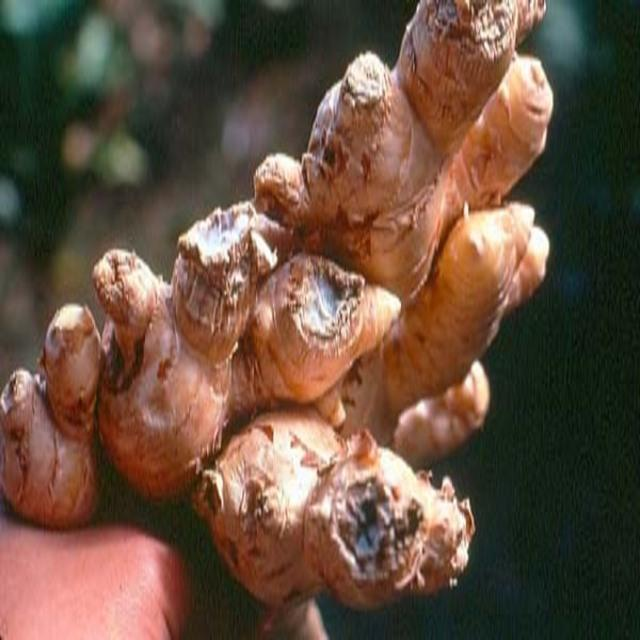ginger: (21, 40, 558, 607)
